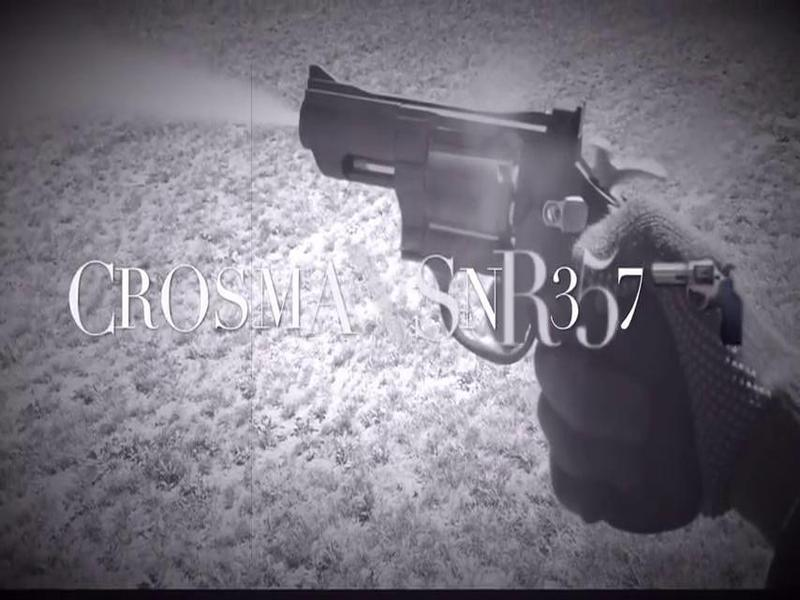Revolver: (301, 62, 685, 519)
